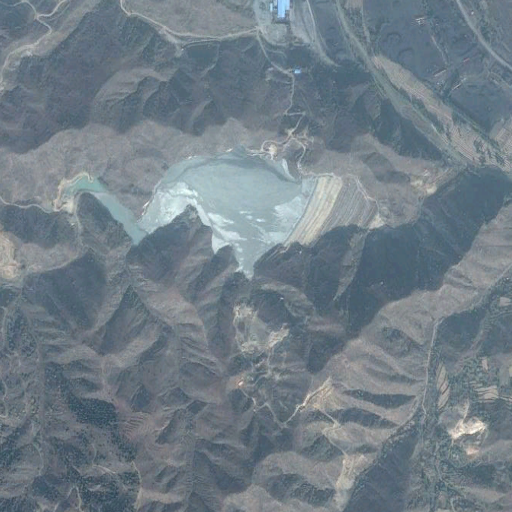tp: (61, 151, 384, 280)
